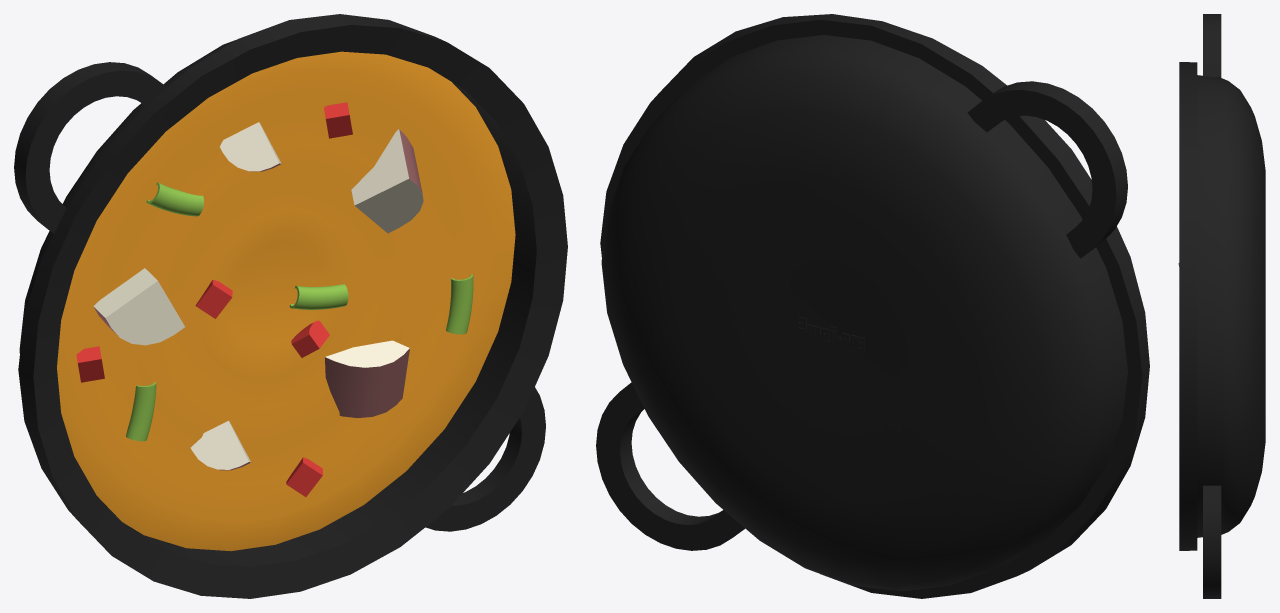
Rendered from shallow_pan_of_food.fbx.
The picture shows the model from 3 angles, left to right: view 1: azimuth 30°, elevation 25°; view 2: azimuth 150°, elevation 25°; view 3: azimuth 270°, elevation 25°; orthographic projection. The views are drawn at different scales.
Parts seen in each view (by area): view 1: Cube.402; view 2: Cube.402; view 3: Cube.402.
Boxes of the visible parts, left/top/right/bottom form: Cube.402: left=14, top=14, right=567, bottom=598; Cube.402: left=596, top=14, right=1149, bottom=598; Cube.402: left=1178, top=14, right=1265, bottom=598.
Bounding box in the file's own units: 215 × 215 × 37.81.
1 material, 1 textured.
